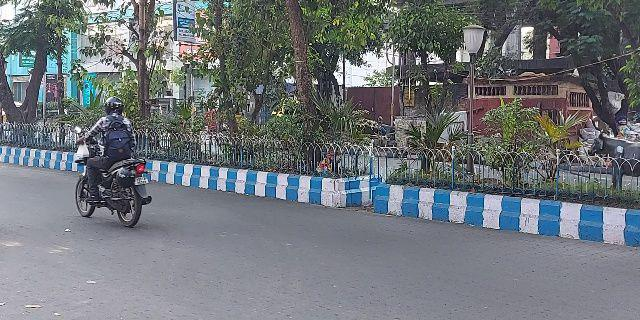Motorbike: (69, 95, 155, 231)
